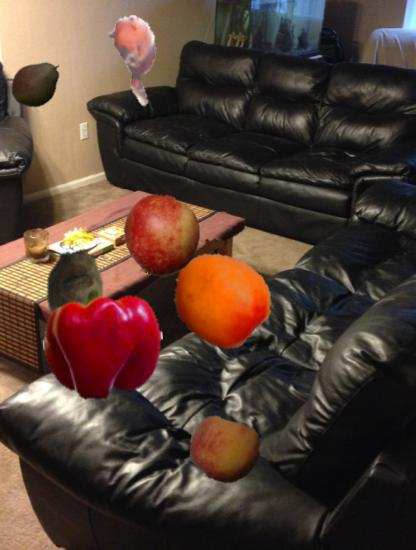Apricot: (171, 251, 272, 352)
Banana: (85, 14, 177, 106)
Ginger: (14, 248, 136, 370)
Nectarine: (121, 195, 202, 276)
Peach: (189, 415, 260, 486)
Pear: (9, 54, 66, 111)
Pepper: (43, 284, 163, 404)
